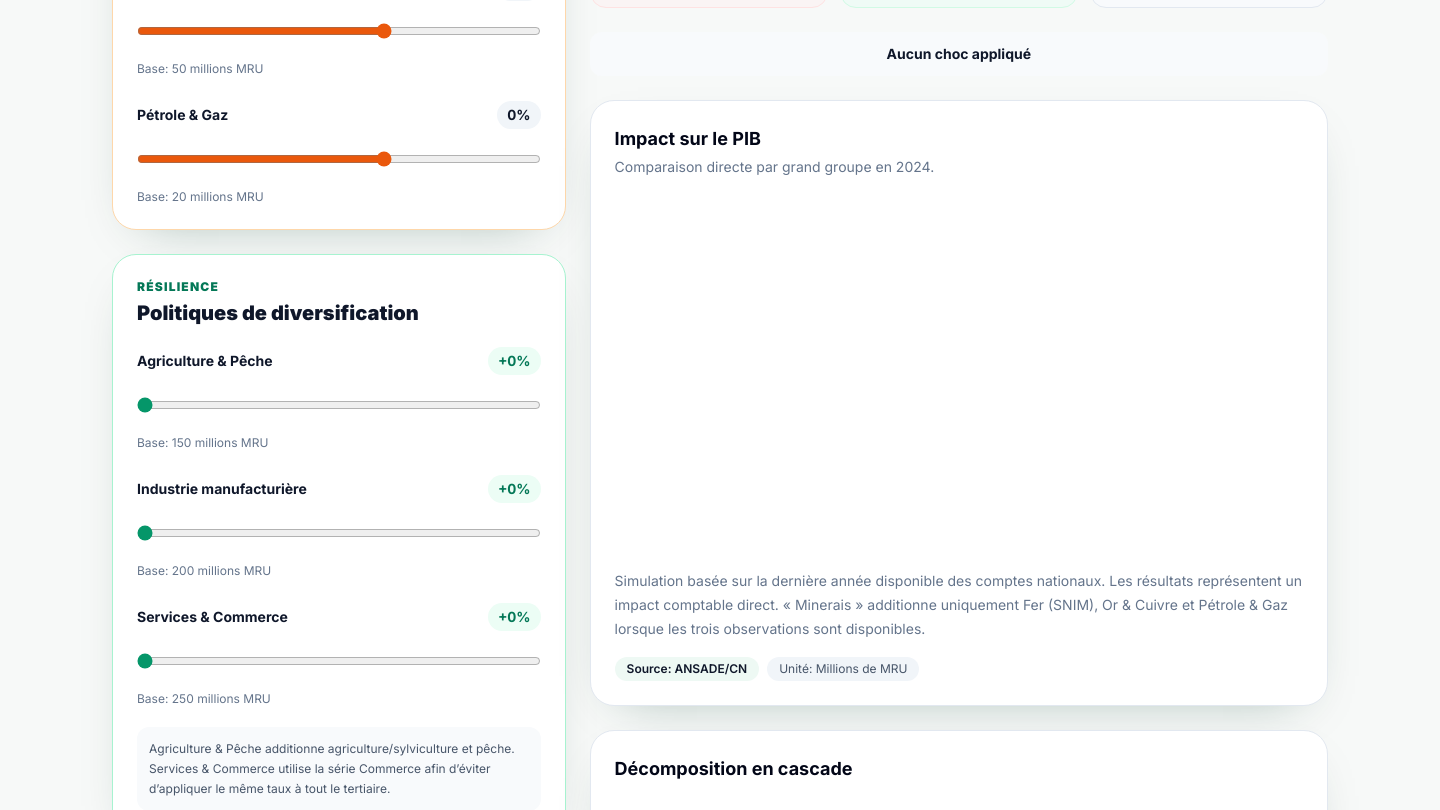
Test: latest-year shock and diversification simulator › combines agriculture and fishing for the primary policy base
(page scrolled)
Set the slider with test id "policy-agriculture_fishing" to "10" at coordinates (223, 405), box [137,383,541,427]
(page scrolled)
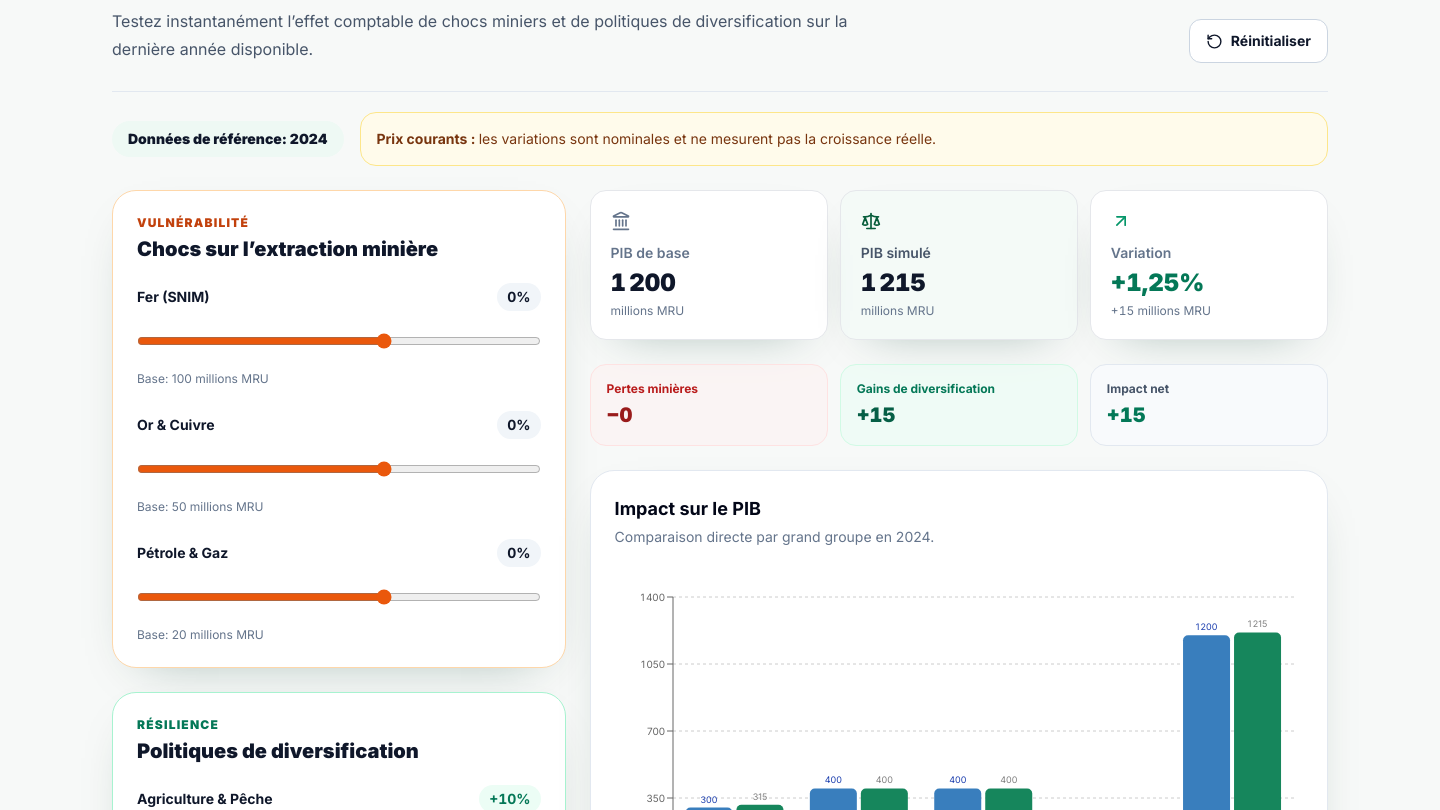
Result: the element with test id "diversification-gains" shows "15" at [870,403,895,427]
